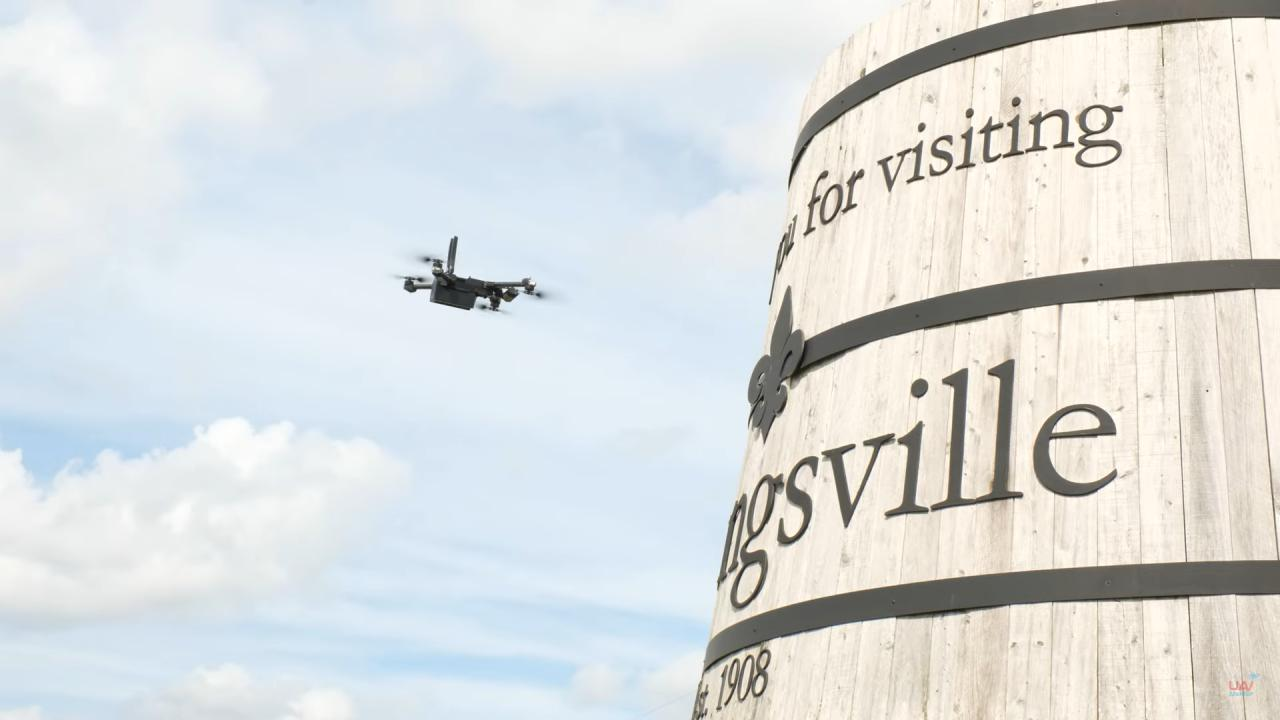Drone: (387, 228, 559, 330)
